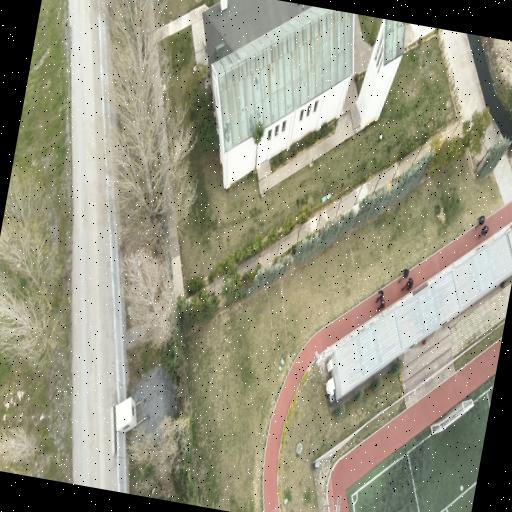person: (474, 216, 485, 229), (402, 278, 413, 291), (399, 269, 409, 283), (478, 226, 488, 239), (376, 299, 385, 311), (376, 291, 383, 303)
